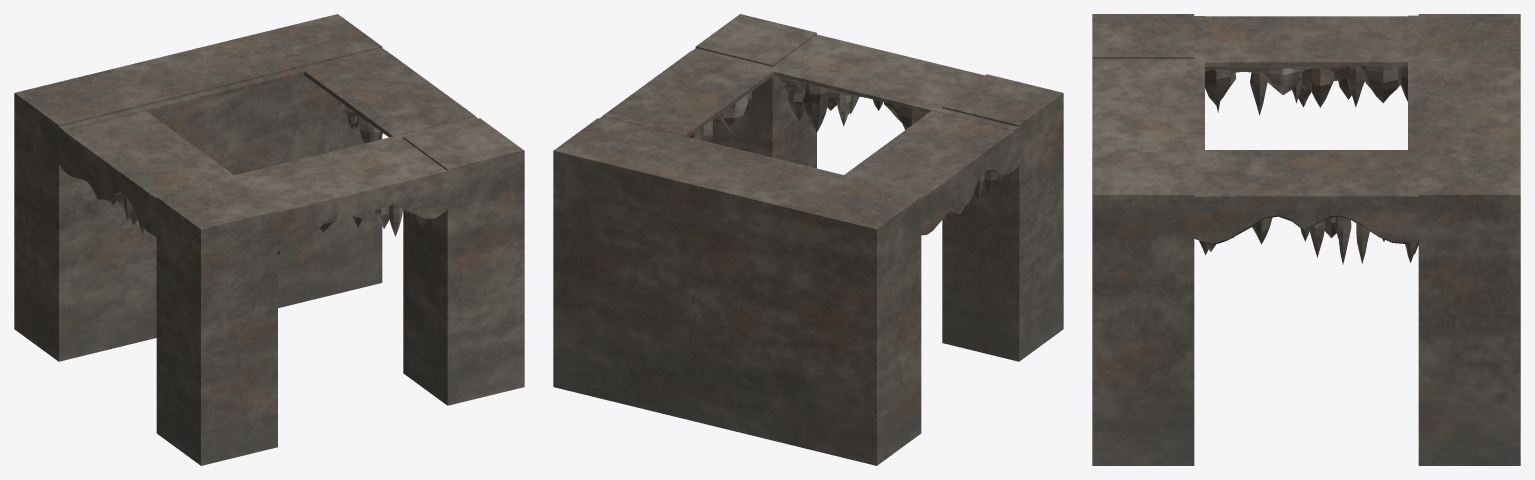
File: dungeon_cave_wall_vault.glb
3 renders of one model, left to right at view 1: azimuth 30°, elevation 25°; view 2: azimuth 150°, elevation 25°; view 3: azimuth 270°, elevation 25°, orthographic. The views are drawn at different scales.
Visible parts, largest first — view 1: dungeon_cave_wall_vault; view 2: dungeon_cave_wall_vault; view 3: dungeon_cave_wall_vault.
Boxes of the visible parts, left/top/right/bottom form: dungeon_cave_wall_vault: left=14, top=14, right=524, bottom=465; dungeon_cave_wall_vault: left=553, top=14, right=1063, bottom=465; dungeon_cave_wall_vault: left=1092, top=14, right=1520, bottom=465.
Size of the model in its own units: 5 by 3.5 by 5.
1 material, 1 textured.
